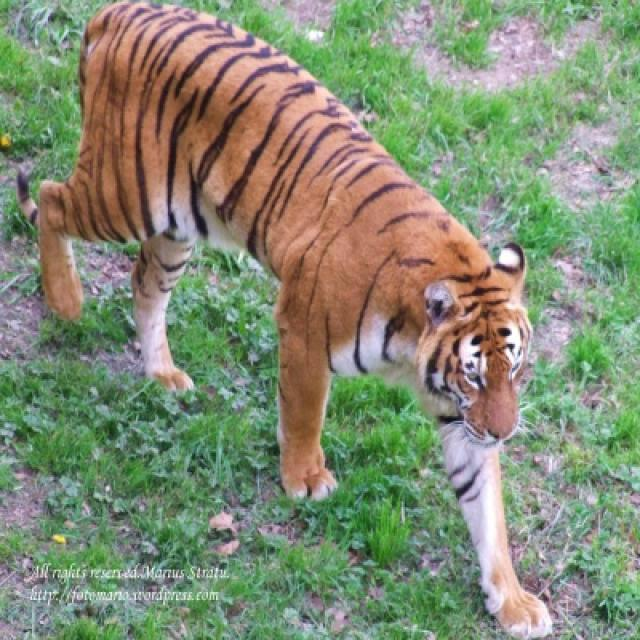Tiger: (18, 0, 550, 635)
